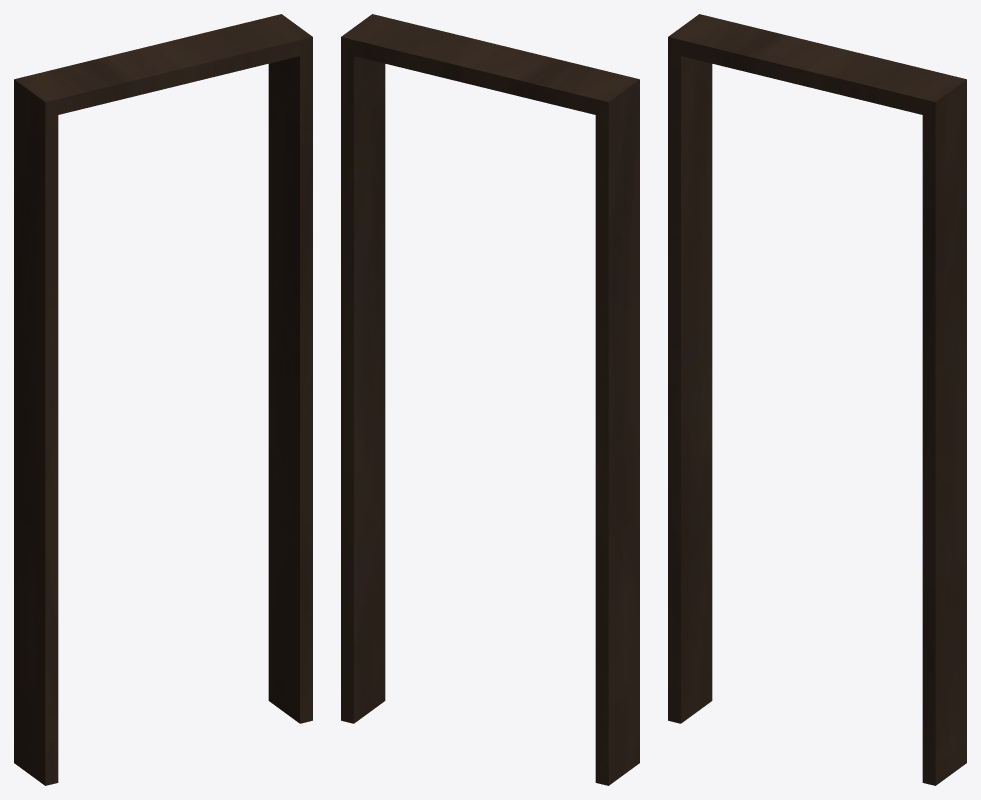
File: DoorFrame.fbx
3 renders of one model, left to right at view 1: azimuth 30°, elevation 25°; view 2: azimuth 150°, elevation 25°; view 3: azimuth 330°, elevation 25°, orthographic.
Visible parts, largest first — view 1: Door_Frame; view 2: Door_Frame; view 3: Door_Frame.
Part boxes in pixels (box(x1,y1,x2,y2)): Door_Frame: box(14, 14, 312, 785); Door_Frame: box(341, 14, 639, 785); Door_Frame: box(668, 14, 966, 785).
Size of the model in its own units: 1.13 by 2.75 by 0.228.
